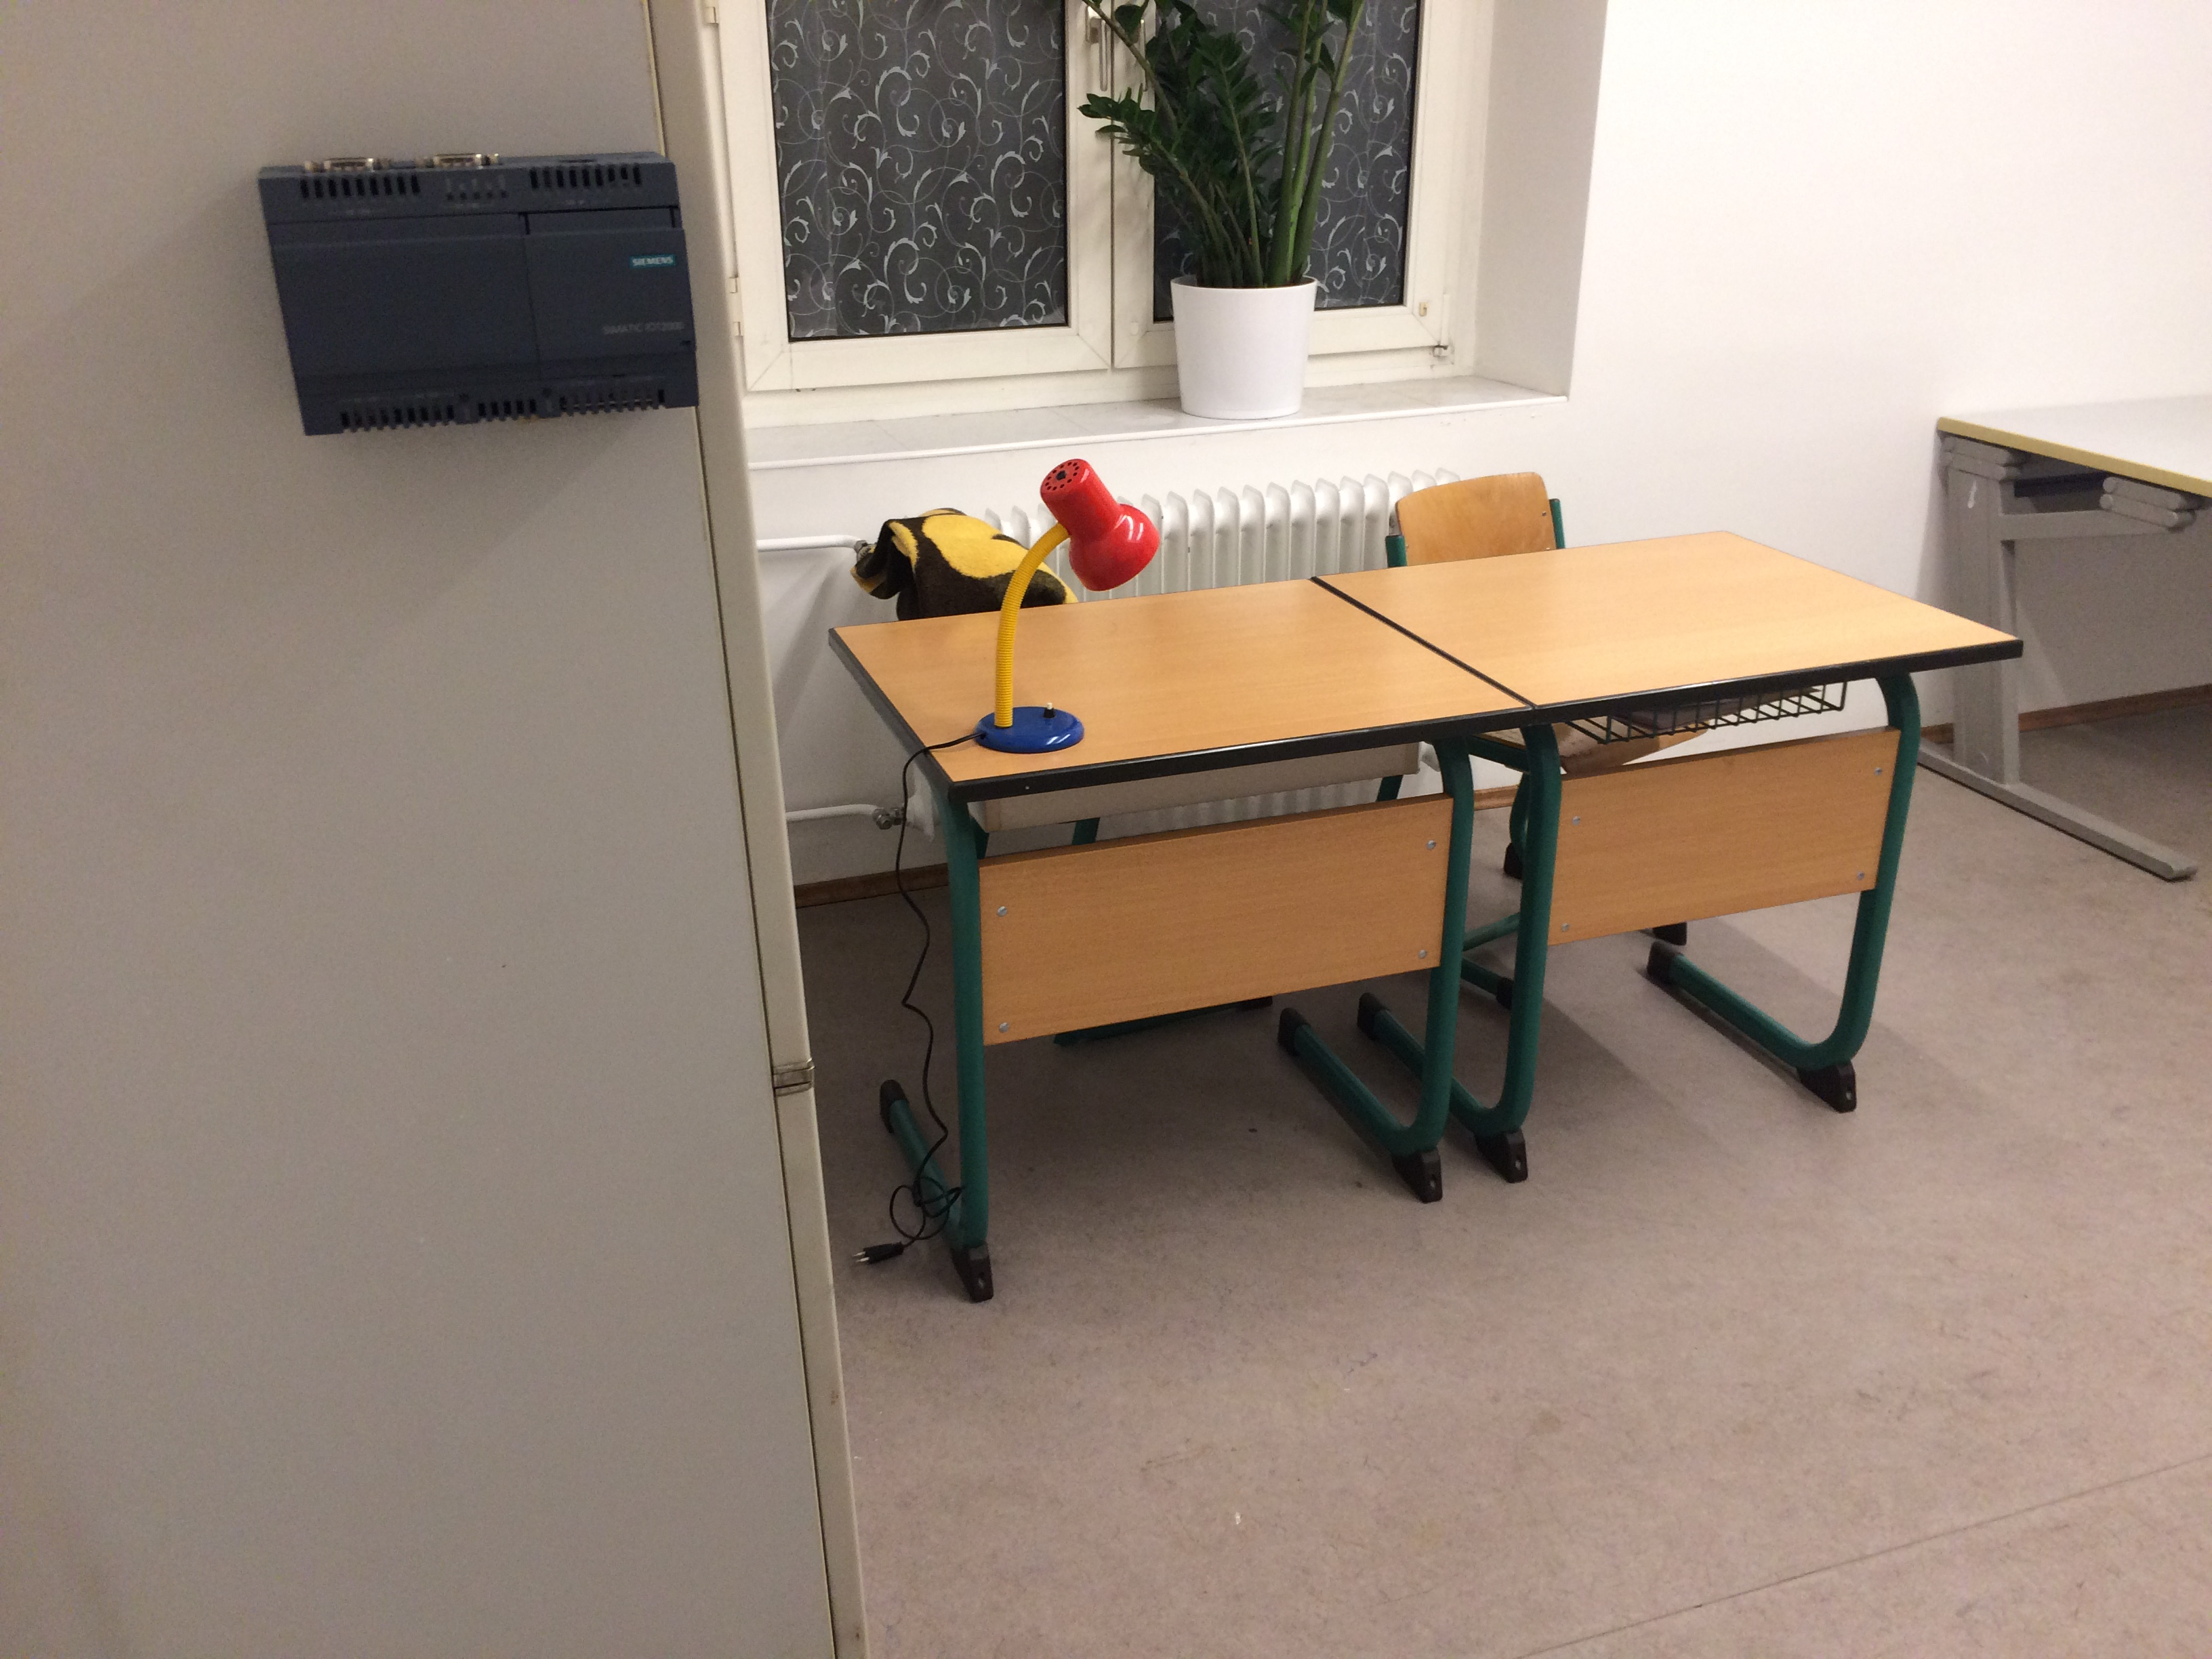iot2000: (254, 148, 704, 439)
